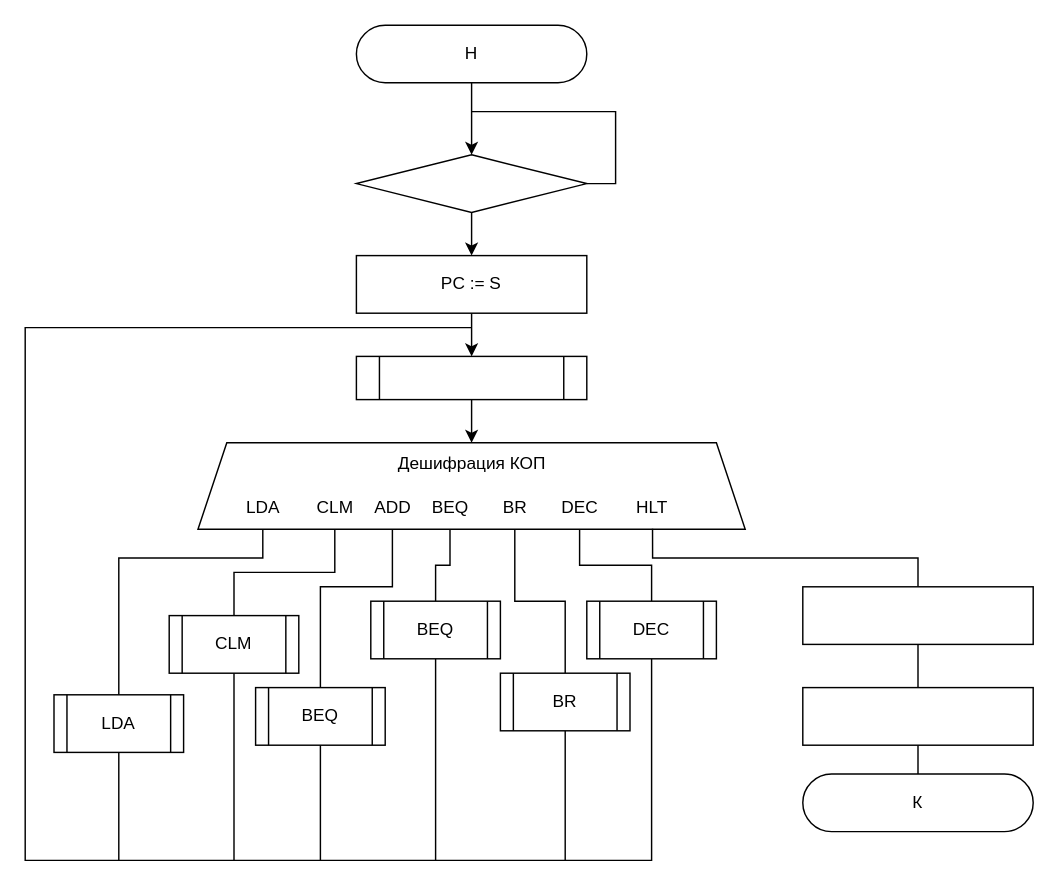
The diagram is 1058 pixels wide and 887 high, and some of its shapes have lost their labels. The shapes that lost their labels are listed below. From the top down, each one's box as (x1, y1, x2, y2) in pixels, then its label:
(355, 153, 587, 212): TST
(355, 355, 587, 400): BK
(801, 585, 1033, 644): PC := 0
(801, 686, 1033, 745): TST := 0
